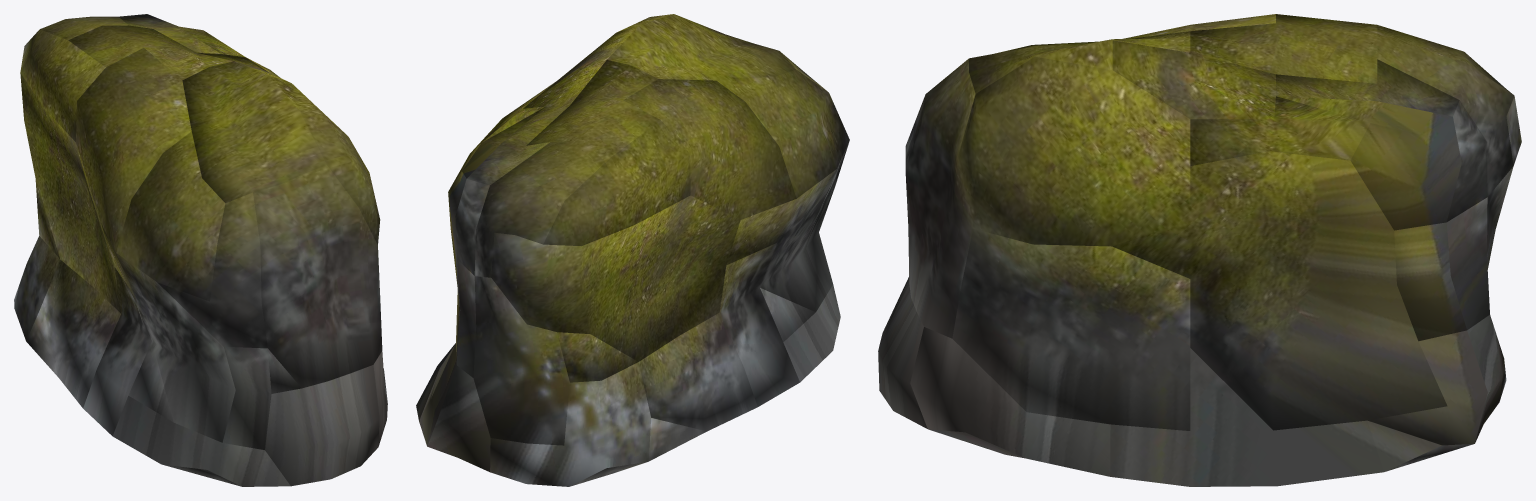
File: Rock.fbx
3 renders of one model, left to right at view 1: azimuth 30°, elevation 25°; view 2: azimuth 150°, elevation 25°; view 3: azimuth 270°, elevation 25°, orthographic. The views are drawn at different scales.
Visible parts, largest first — view 1: defaultMaterial.052, defaultMaterial.053, defaultMaterial.075, defaultMaterial.077, defaultMaterial.058, defaultMaterial.076, defaultMaterial.068, defaultMaterial.082, defaultMaterial.059, defaultMaterial.062, defaultMaterial.067, defaultMaterial.074 (+12 smaller); view 2: defaultMaterial.068, defaultMaterial.075, defaultMaterial.085, defaultMaterial.065, defaultMaterial.074, defaultMaterial.062, defaultMaterial.086, defaultMaterial.077, defaultMaterial.076, defaultMaterial.053, defaultMaterial.070, defaultMaterial.067 (+11 smaller); view 3: defaultMaterial.055, defaultMaterial.054, defaultMaterial.051, defaultMaterial.050, defaultMaterial.052, defaultMaterial.057, defaultMaterial.072, defaultMaterial.071, defaultMaterial.078, defaultMaterial.087, defaultMaterial.064, defaultMaterial.086 (+7 smaller).
Part boxes in pixels (bbox=[...]): defaultMaterial.052: bbox=[253, 165, 382, 388]; defaultMaterial.053: bbox=[182, 61, 326, 203]; defaultMaterial.075: bbox=[76, 48, 191, 252]; defaultMaterial.077: bbox=[116, 131, 225, 301]; defaultMaterial.058: bbox=[265, 365, 379, 486]; defaultMaterial.076: bbox=[100, 222, 235, 442]; defaultMaterial.068: bbox=[20, 73, 121, 313]; defaultMaterial.082: bbox=[157, 192, 267, 348]; defaultMaterial.059: bbox=[112, 396, 290, 486]; defaultMaterial.062: bbox=[40, 260, 120, 407]; defaultMaterial.067: bbox=[83, 267, 151, 435]; defaultMaterial.074: bbox=[20, 29, 105, 141]; defaultMaterial.068: bbox=[580, 195, 740, 361]; defaultMaterial.075: bbox=[623, 79, 796, 219]; defaultMaterial.085: bbox=[473, 276, 569, 445]; defaultMaterial.065: bbox=[490, 362, 650, 486]; defaultMaterial.074: bbox=[543, 120, 690, 246]; defaultMaterial.062: bbox=[638, 312, 757, 431]; defaultMaterial.086: bbox=[474, 142, 610, 277]; defaultMaterial.077: bbox=[717, 69, 849, 198]; defaultMaterial.076: bbox=[726, 169, 836, 311]; defaultMaterial.053: bbox=[607, 14, 795, 80]; defaultMaterial.070: bbox=[491, 232, 590, 334]; defaultMaterial.067: bbox=[719, 243, 799, 406]; defaultMaterial.055: bbox=[1112, 151, 1447, 430]; defaultMaterial.054: bbox=[952, 228, 1190, 430]; defaultMaterial.051: bbox=[957, 56, 1190, 246]; defaultMaterial.050: bbox=[1110, 348, 1383, 486]; defaultMaterial.052: bbox=[905, 58, 975, 338]; defaultMaterial.057: bbox=[910, 327, 1110, 476]; defaultMaterial.072: bbox=[1350, 100, 1487, 230]; defaultMaterial.071: bbox=[1394, 197, 1489, 341]; defaultMaterial.078: bbox=[1190, 14, 1377, 83]; defaultMaterial.087: bbox=[1112, 40, 1275, 119]; defaultMaterial.064: bbox=[1368, 315, 1504, 445]; defaultMaterial.086: bbox=[1377, 25, 1514, 196].
Size of the model in its own units: 0.6743 by 0.7398 by 1.12.
1 material, 1 textured.
